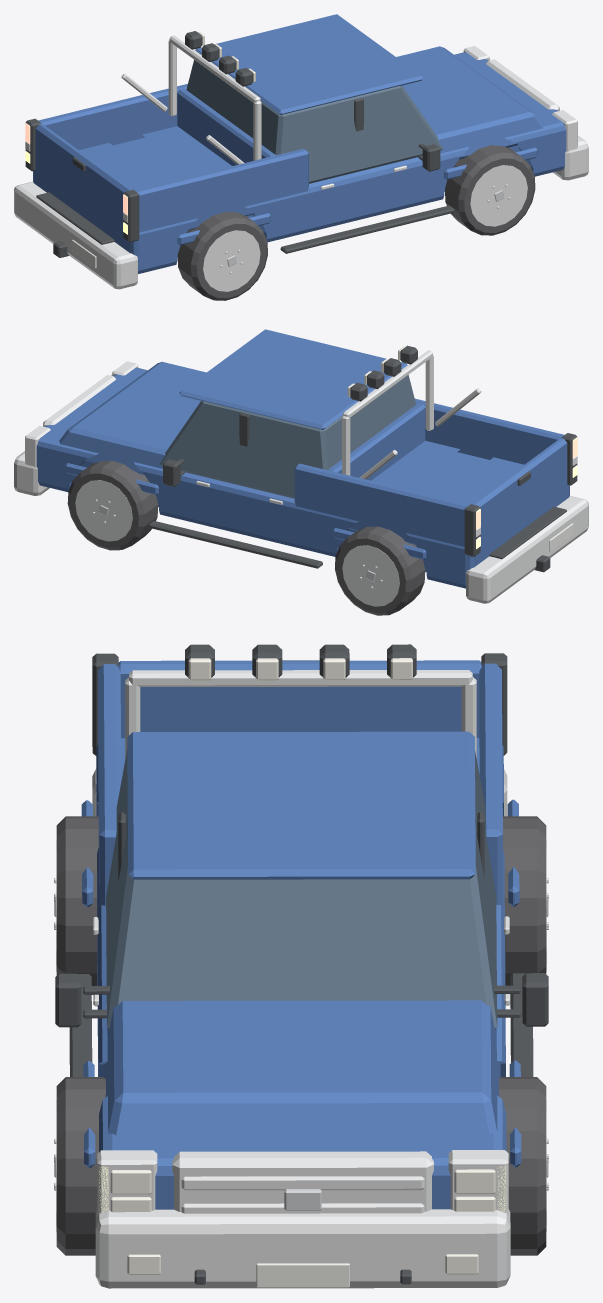
Rendered from Pickup.fbx.
The picture shows the model from 3 angles, top to bottom: view 1: azimuth 30°, elevation 25°; view 2: azimuth 150°, elevation 25°; view 3: azimuth 270°, elevation 25°; orthographic projection. The views are drawn at different scales.
Parts seen in each view (by area): view 1: Pickup_Body, Pickup_Wheel_FR, Pickup_Wheel_RR; view 2: Pickup_Body, Pickup_Wheel_FL, Pickup_Wheel_RL; view 3: Pickup_Body, Pickup_Wheel_FR, Pickup_Wheel_FL, Pickup_Wheel_RL, Pickup_Wheel_RR.
Part boxes in pixels (left/top/right/bottom): Pickup_Body: left=14, top=14, right=588, bottom=289; Pickup_Wheel_FR: left=445, top=145, right=535, bottom=235; Pickup_Wheel_RR: left=177, top=212, right=267, bottom=300; Pickup_Body: left=14, top=329, right=588, bottom=603; Pickup_Wheel_FL: left=67, top=460, right=158, bottom=550; Pickup_Wheel_RL: left=335, top=526, right=425, bottom=615; Pickup_Body: left=55, top=644, right=548, bottom=1288; Pickup_Wheel_FR: left=54, top=1077, right=105, bottom=1255; Pickup_Wheel_FL: left=498, top=1077, right=548, bottom=1255; Pickup_Wheel_RL: left=503, top=816, right=548, bottom=985; Pickup_Wheel_RR: left=54, top=816, right=98, bottom=994.
Size of the model in its own units: 605 by 228 by 265.
